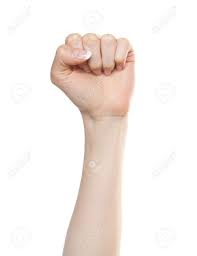fist: (48, 29, 141, 121)
